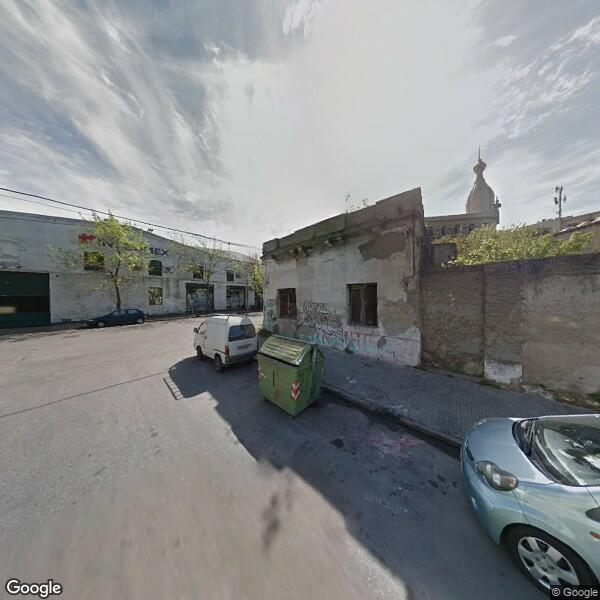Trash: (260, 330, 324, 423)
